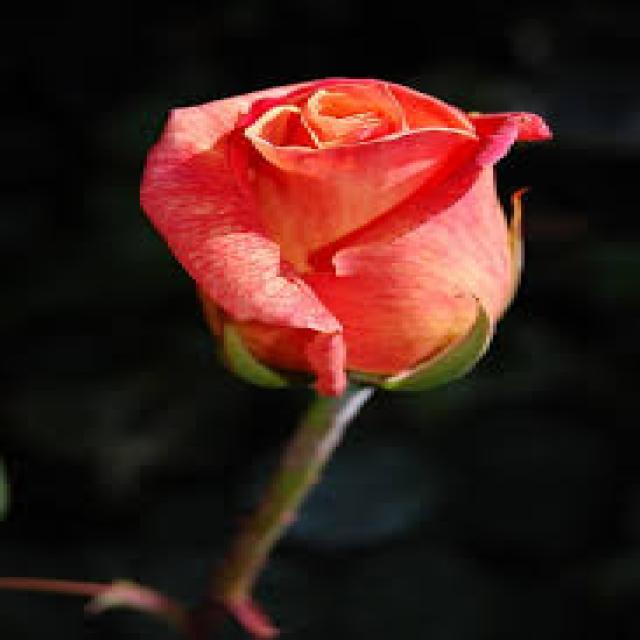rose: (85, 33, 559, 455)
